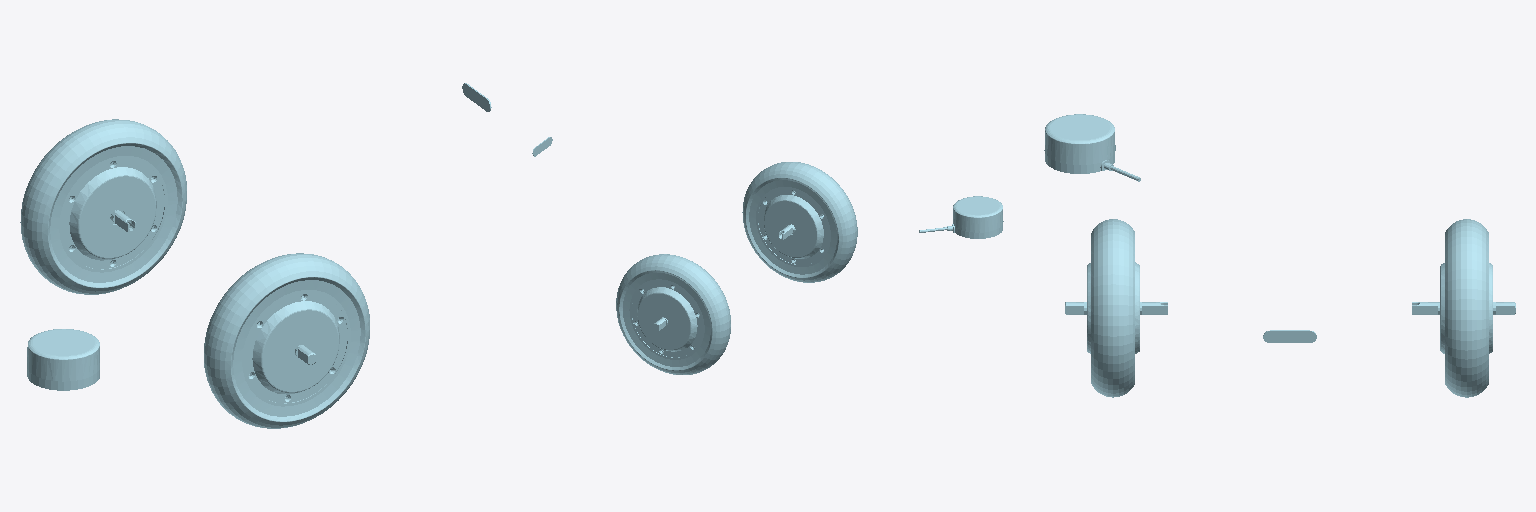
URDF robot description (Beary-x_modle):
<?xml version="1.0" encoding="utf-8"?>

<robot
  name="Beary-x_modle">

<!-- ******************** base ********************-->
  <link name="base_footprint"/>

  <link
    name="base_link">
    <inertial>
      <origin
        xyz="-0.055215367726052 0.000593325287443985 0.175820748967485"
        rpy="0 0 0" />
      <mass
        value="0.00543124747866457" />
      <inertia
        ixx="0.000159721744138676"
        ixy="1.19956200631725E-06"
        ixz="2.03850511927702E-05"
        iyy="0.000253171802085353"
        iyz="6.41694975734622E-08"
        izz="0.00036548556072617" />
    </inertial>
    <visual>
      <origin
        xyz="0 0 0"
        rpy="0 0 0" />
      <geometry>
        <mesh
          filename="package://bearyx_model/meshes/dae/base_link.dae" />
      </geometry>
      <material
        name="">
        <color
          rgba="0.737254901960784 0.901960784313726 0.952941176470588 1" />
      </material>
    </visual>
    <collision>
      <origin
        xyz="0 0 0"
        rpy="0 0 0" />
      <geometry>
        <mesh
          filename="package://bearyx_model/meshes/stl/base_link.STL" />
      </geometry>
    </collision>
  </link>

  <joint name="base_joint" type="fixed">
    <parent link="base_footprint"/>
    <child link="base_link"/>
    <origin xyz="0.0 0.0 0.0" rpy="0 0 0"/>
  </joint>
  
  <link name="base_scan"/>
    
  <joint name="scan_joint" type="fixed">
    <parent link="base_link"/>
    <child link="base_scan"/>
    <origin xyz="0.0 0.0 0.0" rpy="0 0 0"/>
  </joint>
<!-- ******************** end base ********************-->



<!-- ******************** wheel_left ********************-->
  <link
    name="wheel_left_link">
    <inertial>
      <origin
        xyz="-1.12113097006836E-09 7.22144124970514E-07 0.000161702225044691"
        rpy="0 0 0" />
      <mass
        value="0.00139329690452043" />
      <inertia
        ixx="3.36624803921687E-06"
        ixy="7.39300875701478E-15"
        ixz="-1.15025055548288E-15"
        iyy="3.36621257139744E-06"
        iyz="5.81486794290515E-11"
        izz="6.17473155498386E-06" />
    </inertial>
    <visual>
      <origin
        xyz="0 0 0"
        rpy="0 0 0" />
      <geometry>
        <mesh
          filename="package://bearyx_model/meshes/dae/wheel_left_link.dae" />
      </geometry>
      <material
        name="">
        <color
          rgba="0.737254901960784 0.901960784313726 0.952941176470588 1" />
      </material>
    </visual>
    <collision>
      <origin
        xyz="0 0 0"
        rpy="0 0 0" />
      <geometry>
        <mesh
          filename="package://bearyx_model/meshes/stl/wheel_left_link.STL" />
      </geometry>
    </collision>
  </link>

  <joint
    name="wheel_left_joint"
    type="continuous">
    <origin
      xyz="0 0.19775 0.066749"
      rpy="-1.5708 0 0" />
    <parent
      link="base_link" />
    <child
      link="wheel_left_link" />
    <axis
      xyz="0 0 1" />
  </joint>
<!-- ******************** end wheel_left ********************-->

<!-- ******************** wheel_right ********************-->
  <link
    name="wheel_right_link">
    <inertial>
      <origin
        xyz="1.12113096972269E-09 7.22144124984392E-07 -0.000161702225044719"
        rpy="0 0 0" />
      <mass
        value="0.00139329690452043" />
      <inertia
        ixx="3.36624803921687E-06"
        ixy="-7.39300875781191E-15"
        ixz="-1.15023077039508E-15"
        iyy="3.36621257139743E-06"
        iyz="-5.81486794292593E-11"
        izz="6.17473155498386E-06" />
    </inertial>
    <visual>
      <origin
        xyz="0 0 0"
        rpy="0 0 0" />
      <geometry>
        <mesh
          filename="package://bearyx_model/meshes/dae/wheel_right_link.dae" />
      </geometry>
      <material
        name="">
        <color
          rgba="0.737254901960784 0.901960784313726 0.952941176470588 1" />
      </material>
    </visual>
    <collision>
      <origin
        xyz="0 0 0"
        rpy="0 0 0" />
      <geometry>
        <mesh
          filename="package://bearyx_model/meshes/stl/wheel_right_link.STL" />
      </geometry>
    </collision>
  </link>

  <joint
    name="wheel_right_joint"
    type="continuous">
    <origin
      xyz="0 -0.19775 0.066749"
      rpy="-1.5708 0 0" />
    <parent
      link="base_link" />
    <child
      link="wheel_right_link" />
    <axis
      xyz="0 0 1" />
  </joint>
<!-- ******************** end wheel_right ********************-->

<!-- ******************** imu ********************-->
  <joint name="imu_joint" type="fixed">
    <parent link="base_link"/>
    <child link="imu_link"/>
    <origin xyz="-0.20 0 0.05" rpy="0 0 -1.5708"/>
  </joint>

  <link name="imu_link">
    
  </link>
<!-- ******************** end imu ********************-->

<!-- ******************** scan_1 ********************-->
  <link
    name="base_scan_1">
    <inertial>
      <origin
        xyz="-0.00177571998499404 -0.00176965666304121 0.00608267427809162"
        rpy="0 0 0" />
      <mass
        value="3.74307663679103E-05" />
      <inertia
        ixx="3.08343933333962E-08"
        ixy="-2.78438473410044E-09"
        ixz="-7.56893245046912E-10"
        iyy="3.08304806407341E-08"
        iyz="-7.57864800840152E-10"
        izz="4.50852856571892E-08" />
    </inertial>
    <visual>
      <origin
        xyz="0 0 0"
        rpy="0 0 0" />
      <geometry>
        <mesh
          filename="package://bearyx_model/meshes/dae/scan_1.dae" />
      </geometry>
      <material
        name="">
        <color
          rgba="0.737254901960784 0.901960784313726 0.952941176470588 1" />
      </material>
    </visual>
    <collision>
      <origin
        xyz="0 0 0"
        rpy="0 0 0" />
      <geometry>
        <mesh
          filename="package://bearyx_model/meshes/stl/scan_1.STL" />
      </geometry>
    </collision>
  </link>

  <joint
    name="lidar_joint_1"
    type="fixed">
    <origin
      xyz="0.3 0.235 0.12203"
      rpy="0 0 0" />
    <parent
      link="base_scan" />
    <child
      link="base_scan_1" />
    <axis
      xyz="0 0 0" />
  </joint>
<!-- ******************** end scan_1 ********************-->

<!-- ******************** scan_2 ********************-->
  <link
    name="base_scan_2">
    <inertial>
      <origin
        xyz="0.00177571998501846 0.00176965666317083 0.00608267427810945"
        rpy="0 0 0" />
      <mass
        value="3.74307663679113E-05" />
      <inertia
        ixx="3.08343933332249E-08"
        ixy="-2.7843847341003E-09"
        ixz="7.56893245050378E-10"
        iyy="3.08304806405632E-08"
        iyz="7.57864800841837E-10"
        izz="4.508528565719E-08" />
    </inertial>
    <visual>
      <origin
        xyz="0 0 0"
        rpy="0 0 0" />
      <geometry>
        <mesh
          filename="package://bearyx_model/meshes/dae/scan_2.dae" />
      </geometry>
      <material
        name="">
        <color
          rgba="0.737254901960784 0.901960784313726 0.952941176470588 1" />
      </material>
    </visual>
    <collision>
      <origin
        xyz="0 0 0"
        rpy="0 0 0" />
      <geometry>
        <mesh
          filename="package://bearyx_model/meshes/stl/scan_2.STL" />
      </geometry>
    </collision>
  </link>

  <joint
    name="lidar_joint_2"
    type="fixed">
    <origin
      xyz="-0.3 -0.235 0.12203"
      rpy="0 0 0" />
    <parent
      link="base_scan" />
    <child
      link="base_scan_2" />
    <axis
      xyz="0 0 0" />
  </joint>
<!-- ******************** end scan_2 ********************-->

<!-- ******************** camera3d ********************-->
  <link
    name="camera_link">
    <inertial>
      <origin
        xyz="-0.000849999999999795 -1.26422554673857E-14 -1.93178806284777E-14"
        rpy="0 0 0" />
      <mass
        value="1.4479147974995E-06" />
      <inertia
        ixx="4.187216574138E-10"
        ixy="1.16576378318712E-25"
        ixz="-5.75905704698494E-26"
        iyy="2.60889142369011E-11"
        iyz="1.89980911267052E-26"
        izz="3.93330155471028E-10" />
    </inertial>
    <visual>
      <origin
        xyz="0 0 0"
        rpy="0 0 0" />
      <geometry>
        <mesh
          filename="package://bearyx_model/meshes/dae/camera3d_link.dae" />
      </geometry>
      <material
        name="">
        <color
          rgba="0.737254901960784 0.901960784313726 0.952941176470588 1" />
      </material>
    </visual>
    <collision>
      <origin
        xyz="0 0 0"
        rpy="0 0 0" />
      <geometry>
        <mesh
          filename="package://bearyx_model/meshes/stl/camera3d_link.STL" />
      </geometry>
    </collision>
  </link>

  <joint
    name="camera_joint"
    type="fixed">
    <origin
      xyz="0.352 0 0.1953"
      rpy="0 0 0" />
    <parent
      link="base_link" />
    <child
      link="camera_link" />
    <axis
      xyz="0 0 0" />
  </joint>
<!-- ******************** end camera3d ********************-->

<!-- ******************** infrared ********************-->
  <joint name="infrared_joint" type="fixed">
    <parent link="base_link"/>
    <child link="infrared_link"/>
    <origin xyz="-0.352 0 0.110" rpy="0 0 0"/>
  </joint>

  <link name="infrared_link">
    
  </link>
<!-- ******************** end infrared ********************-->

<!-- ******************** infrared ********************-->
  <joint name="charge_joint" type="fixed">
    <parent link="base_link"/>
    <child link="charge_link"/>
    <origin xyz="-0.352 0 0.055" rpy="0 0 0"/>
  </joint>

  <link name="charge_link">
    
  </link>
<!-- ******************** end infrared ********************-->

<!-- ******************** ultrasonic_1 ********************-->
  <joint name="ultrasonic_joint_1" type="fixed">
    <parent link="base_link"/>
    <child link="ultrasonic_link_1"/>
    <origin xyz="0.34386 0.26526 0.06" rpy="-1.5707963268 0 0.7853981634"/>
  </joint>

  <link name="ultrasonic_link_1">
    
  </link>
<!-- ******************** end ultrasonic_1 ********************-->

<!-- ******************** ultrasonic_2 ********************-->
  <joint name="ultrasonic_joint_2" type="fixed">
    <parent link="base_link"/>
    <child link="ultrasonic_link_2"/>
    <origin xyz="0.355 0.1730 0.06" rpy="0 0 0"/>
  </joint>

  <link name="ultrasonic_link_2">
    
  </link>
<!-- ******************** end ultrasonic_3 ********************-->
<!-- ******************** ultrasonic_3 ********************-->
  <joint name="ultrasonic_joint_3" type="fixed">
    <parent link="base_link"/>
    <child link="ultrasonic_link_3"/>
    <origin xyz="0.355 0.058 0.06" rpy="0 0 0"/>
  </joint>

  <link name="ultrasonic_link_3">
    
  </link>
<!-- ******************** end ultrasonic_3 ********************-->
<!-- ******************** ultrasonic_4 ********************-->
  <joint name="ultrasonic_joint_4" type="fixed">
    <parent link="base_link"/>
    <child link="ultrasonic_link_4"/>
    <origin xyz="0.355 -0.058 0.06" rpy="0 0 0"/>
  </joint>

  <link name="ultrasonic_link_4">
    
  </link>
<!-- ******************** end ultrasonic_4 ********************-->
<!-- ******************** ultrasonic_5 ********************-->
  <joint name="ultrasonic_joint_5" type="fixed">
    <parent link="base_link"/>
    <child link="ultrasonic_link_5"/>
    <origin xyz="0.355 -0.172 0.06" rpy="0 0 0"/>
  </joint>

  <link name="ultrasonic_link_5">
    
  </link>
<!-- ******************** end ultrasonic_5 ********************-->

<!-- ******************** ultrasonic_6 ********************-->
  <joint name="ultrasonic_joint_6" type="fixed">
    <parent link="base_link"/>
    <child link="ultrasonic_link_6"/>
    <origin xyz="0.34386 -0.26526 0.06" rpy="-1.5707963268 0 -0.7853981634"/>
  </joint>

  <link name="ultrasonic_link_6">
    
  </link>
<!-- ******************** end ultrasonic_6 ********************-->

</robot>

--- Facts derived from the render (not from the file) ---
Views: 3 orthographic renders of the robot side by side, from view 1: azimuth 30°, elevation 25°; view 2: azimuth 150°, elevation 25°; view 3: azimuth 270°, elevation 25°.
Model Beary-x_modle with 17 links and 16 joints (2 continuous, 14 fixed), rooted at base_footprint, posed all joints at 0.
Links seen in each view (by area): view 1: wheel_right_link, wheel_left_link, base_scan_2; view 2: wheel_right_link, wheel_left_link, base_scan_2; view 3: wheel_left_link, wheel_right_link, base_scan_2, camera_link.
Link boxes in pixels (bbox=[...]): wheel_right_link: bbox=[204, 253, 369, 428]; wheel_left_link: bbox=[20, 119, 186, 294]; base_scan_2: bbox=[27, 329, 99, 390]; wheel_right_link: bbox=[742, 162, 857, 282]; wheel_left_link: bbox=[616, 254, 730, 374]; base_scan_2: bbox=[919, 196, 1003, 238]; wheel_left_link: bbox=[1412, 219, 1515, 397]; wheel_right_link: bbox=[1065, 219, 1167, 397]; base_scan_2: bbox=[1044, 114, 1140, 181]; camera_link: bbox=[1263, 330, 1316, 342].
Size in the robot's own frame: 0.6918 by 0.527 by 0.236 metres.
4 mesh visuals loaded from 6 distinct referenced files (4 Collada DAE); not drawn: 1 (reference not matched to a file when rendering), 1 (file found but could not be loaded).
